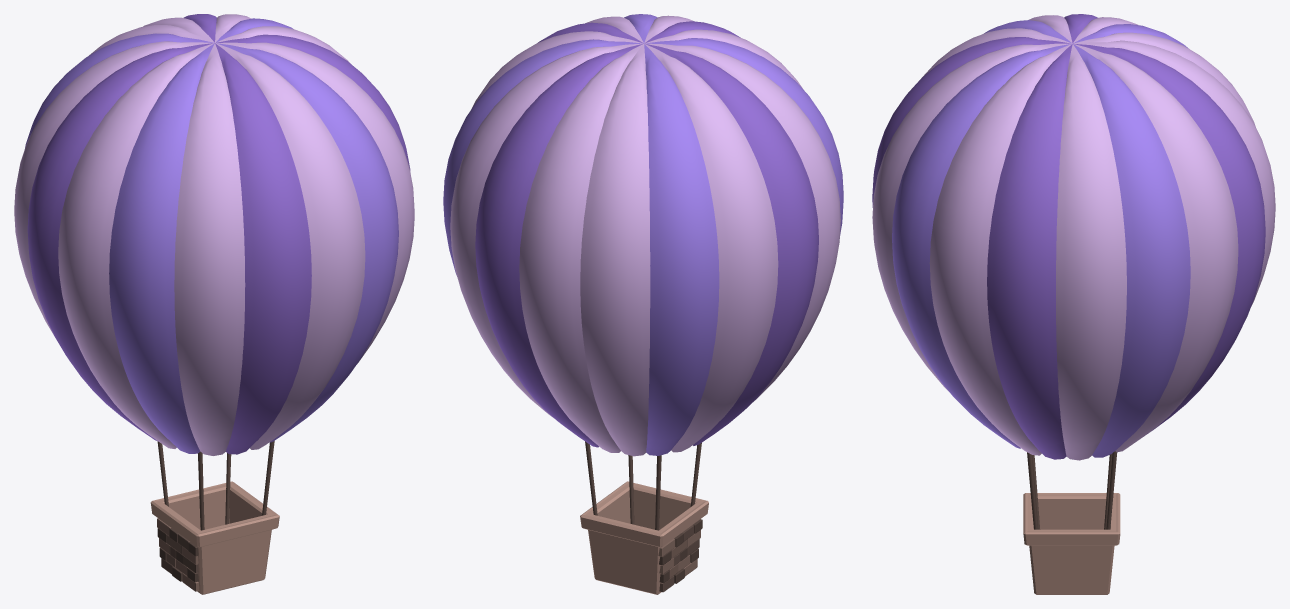
File: balloon_220916_purple.glb
3 renders of one model, left to right at view 1: azimuth 30°, elevation 25°; view 2: azimuth 150°, elevation 25°; view 3: azimuth 270°, elevation 25°, orthographic.
Parts seen in each view (by area): view 1: 球.001, 立方体.002; view 2: 球.001, 立方体.002; view 3: 球.001, 立方体.002.
Part boxes in pixels (x1,y1,x2,y2): 球.001: [14, 14, 414, 455]; 立方体.002: [150, 481, 279, 594]; 球.001: [443, 14, 843, 456]; 立方体.002: [580, 481, 708, 594]; 球.001: [872, 14, 1275, 460]; 立方体.002: [1023, 493, 1120, 594].
Bounding box in the file's own units: 1.9 × 2.78 × 1.89.
